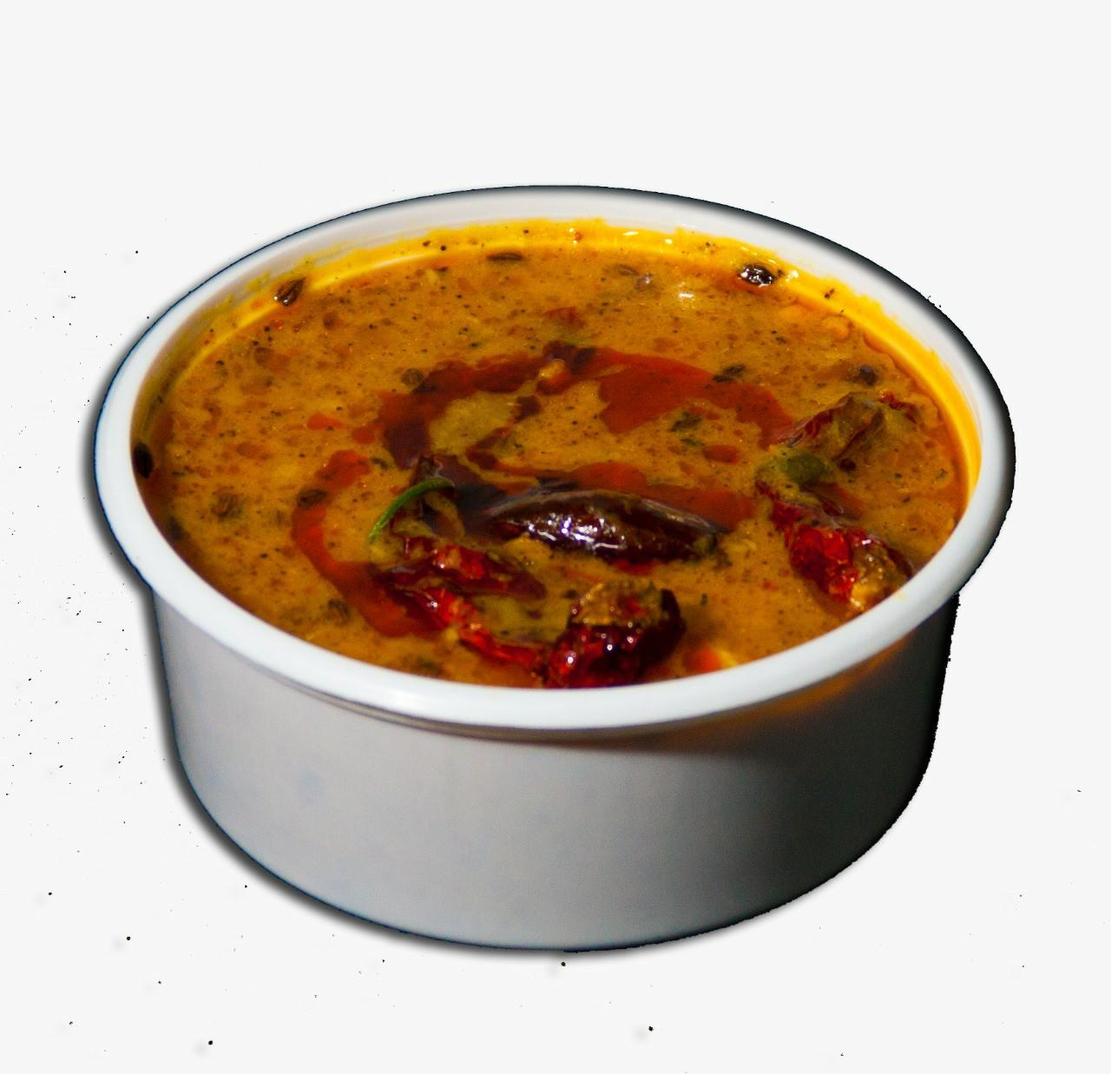Dal: (144, 241, 965, 689)
